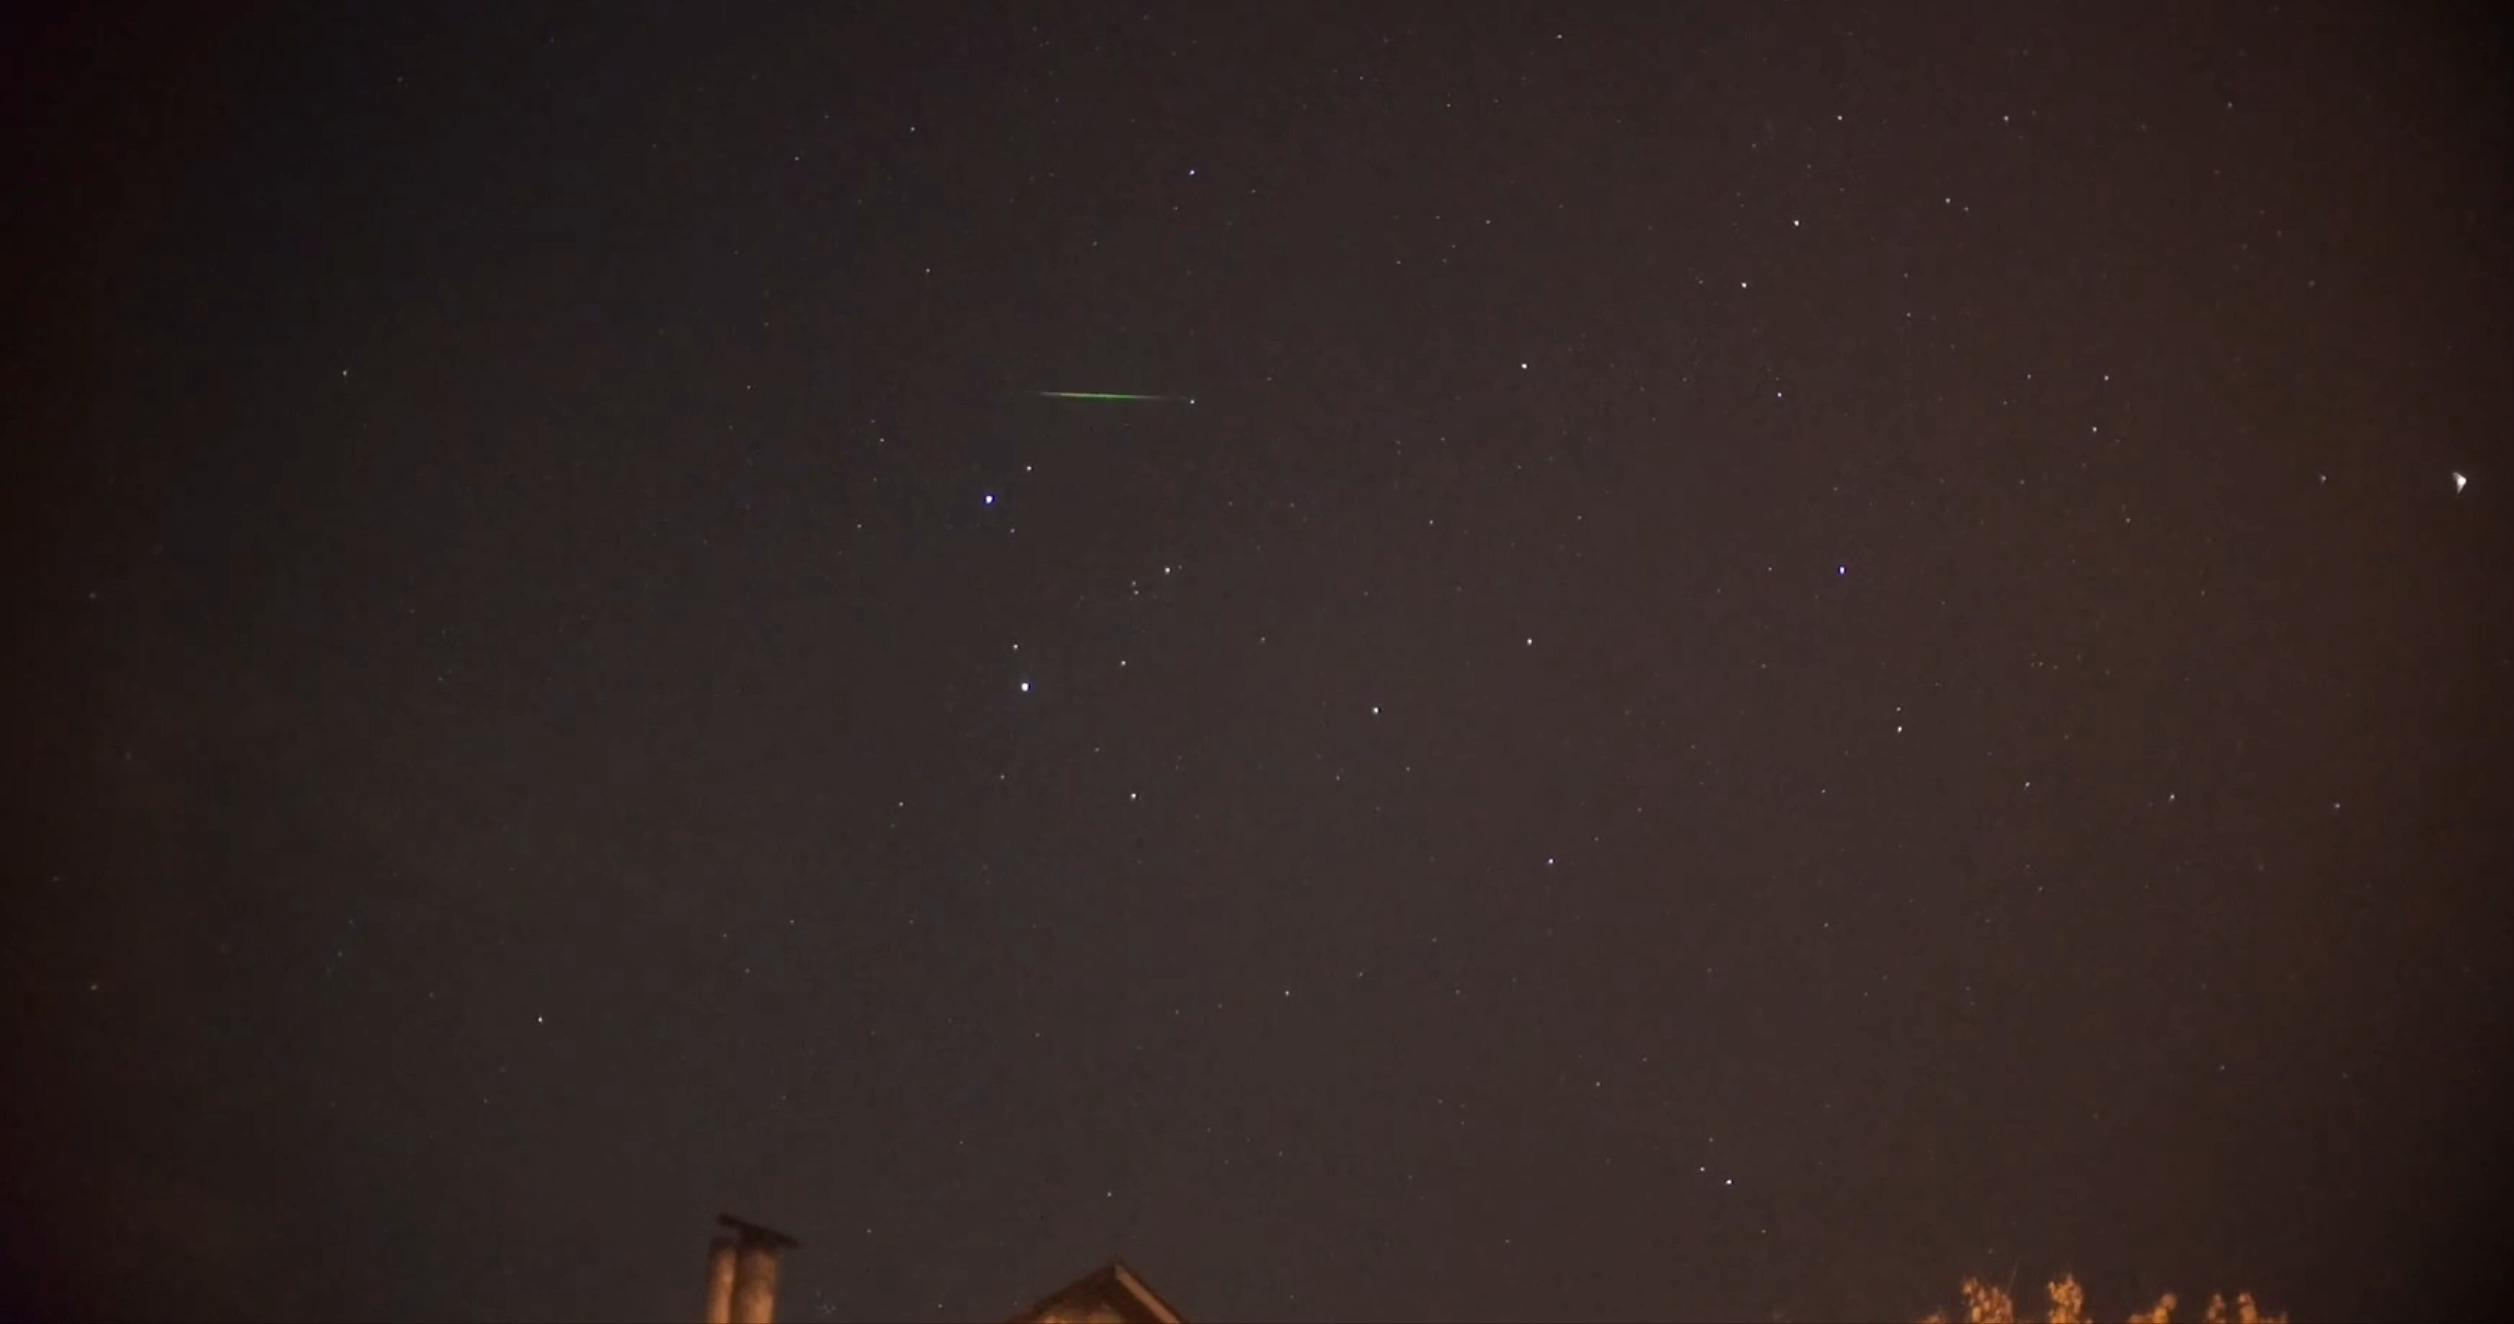meteorite: (966, 373, 1237, 421)
